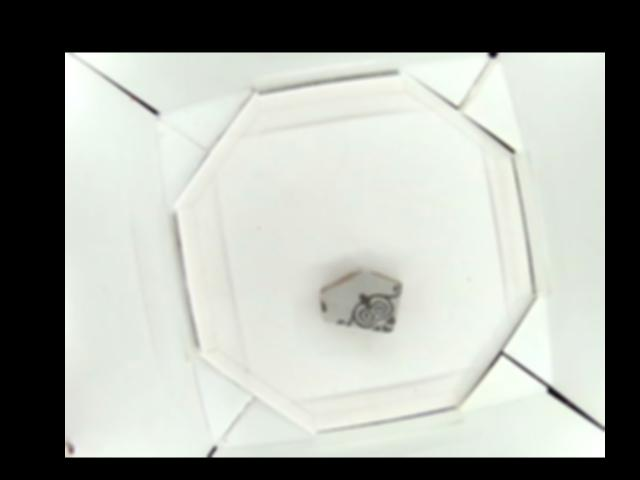China: (318, 268, 400, 336)
